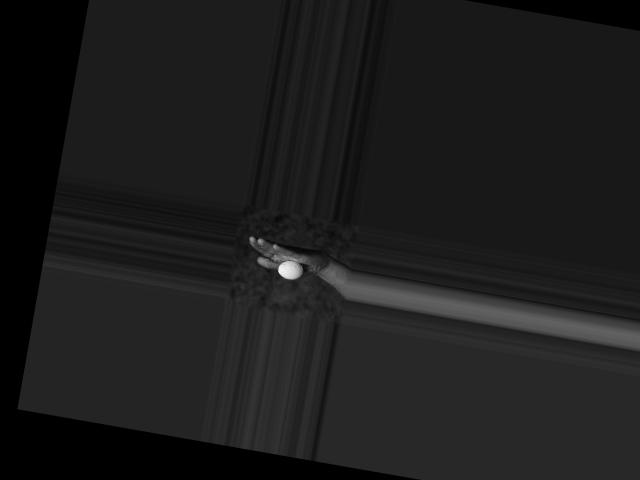egg: (277, 258, 304, 281)
